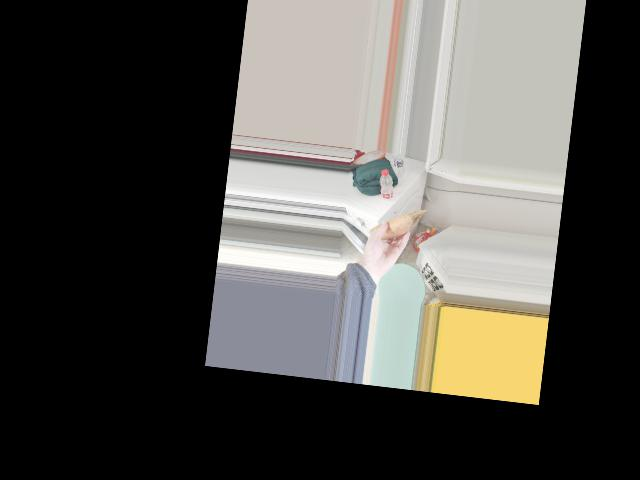sweet_potato: (374, 212, 410, 245)
